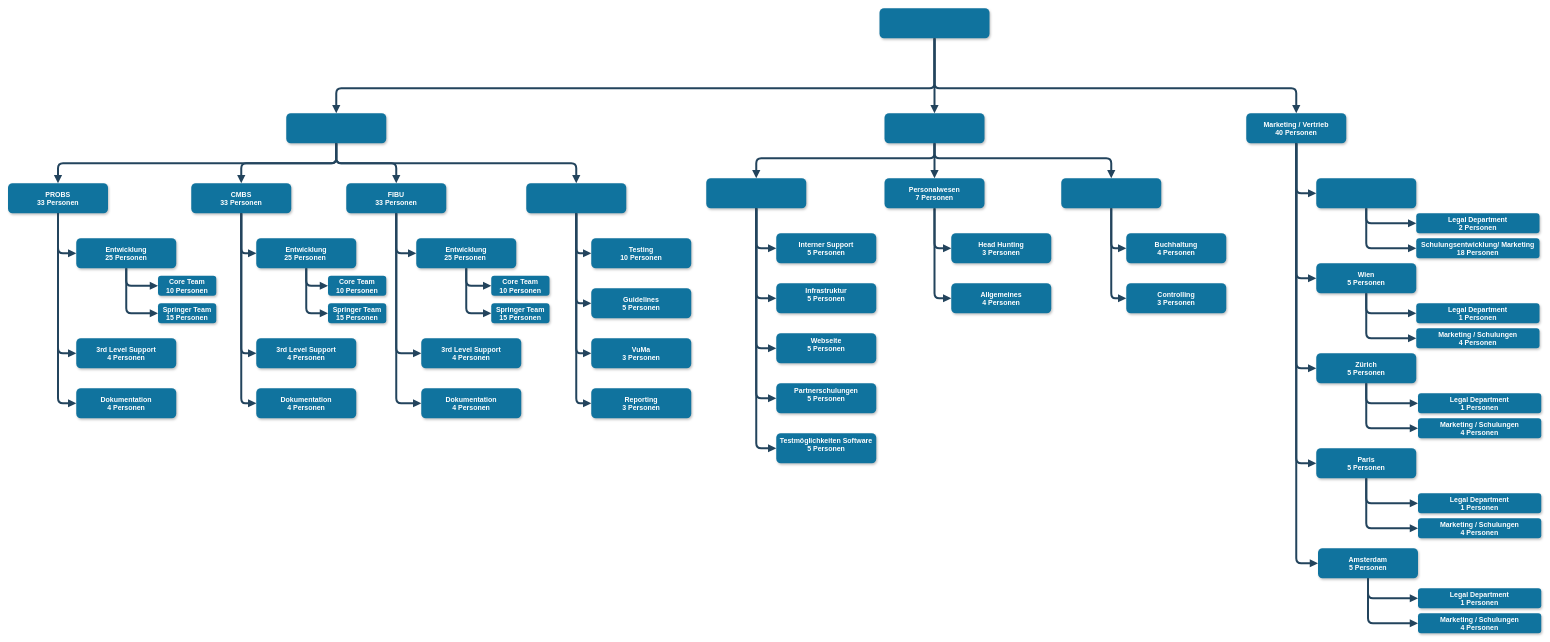
Image size: 1550x642. Some labels were removed from this diagram. Here are the shapes that lost their labels. From the top down, the centre of each, then its label:
point 934,24: Geschäftsführung
point 336,128: Software 120 Personen
point 934,128: Organisation 44 Personen
point 576,198: QS 21 Personen
point 756,194: IT - Zentrale München 30 Personen
point 1111,194: Finanzen 7 Personen
point 1366,194: München - Zentrale 20 Personen
